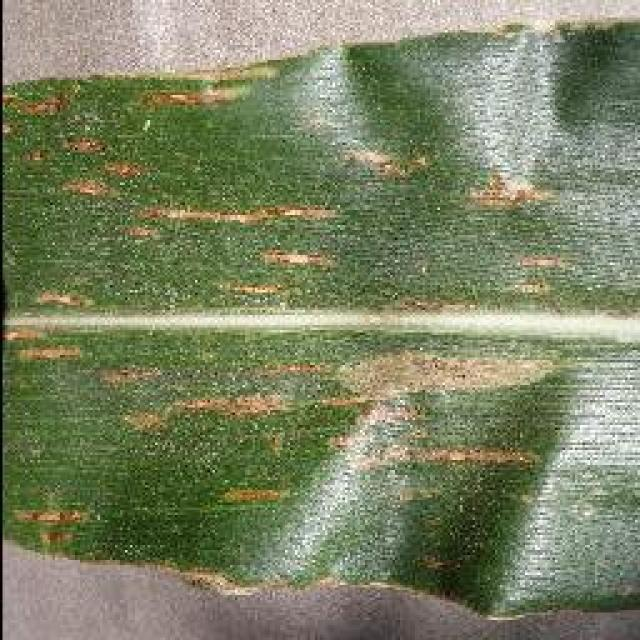Corn_Grey_Leaf_Spot: (30, 88, 562, 550)
